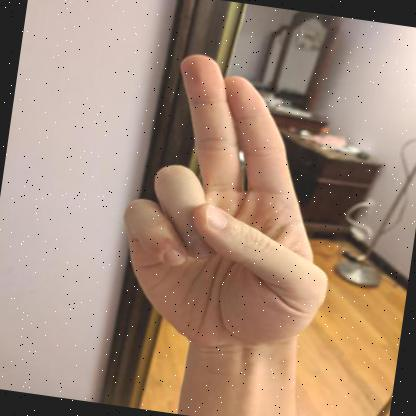U: (123, 54, 327, 348)
